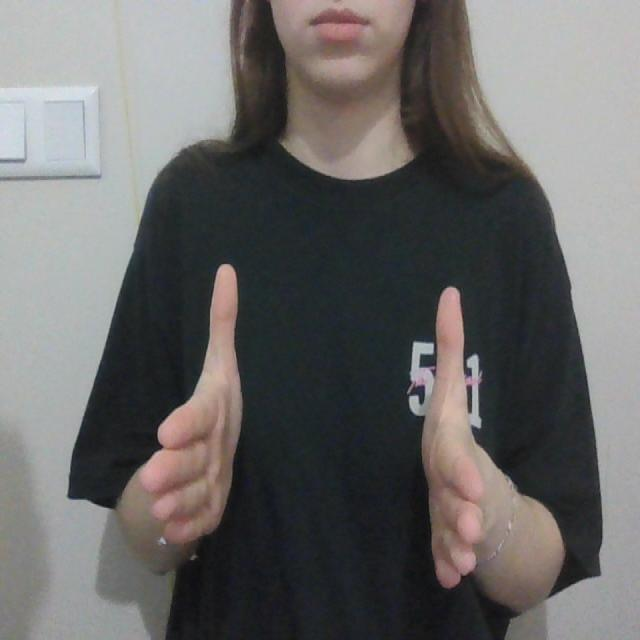Nasil: (129, 247, 499, 604)
